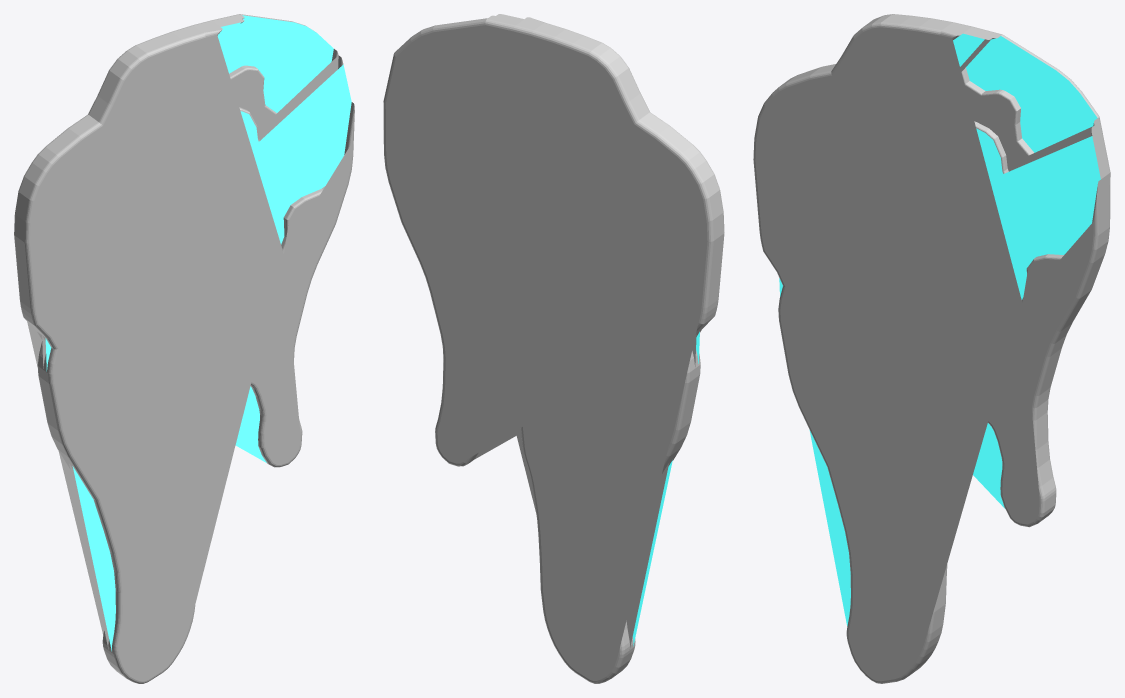
Rendered from pingfeng_a.fbx.
The picture shows the model from 3 angles, left to right: view 1: azimuth 30°, elevation 25°; view 2: azimuth 150°, elevation 25°; view 3: azimuth 330°, elevation 25°; orthographic projection. The views are drawn at different scales.
Parts seen in each view (by area): view 1: pingfeng_a; view 2: pingfeng_a; view 3: pingfeng_a.
Boxes of the visible parts, <box> form: pingfeng_a: <box>14,14,354,683</box>; pingfeng_a: <box>383,14,724,683</box>; pingfeng_a: <box>753,14,1110,683</box>.
Bounding box in the file's own units: 356 × 659 × 26.81.
